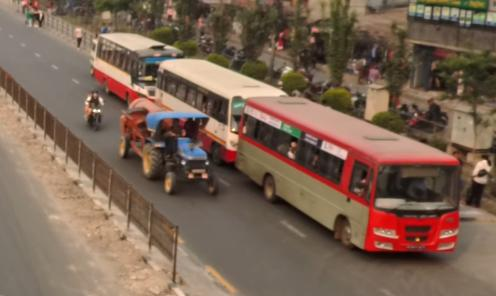bus: (232, 91, 465, 257), (89, 25, 187, 103)
tractor: (142, 108, 220, 198)
